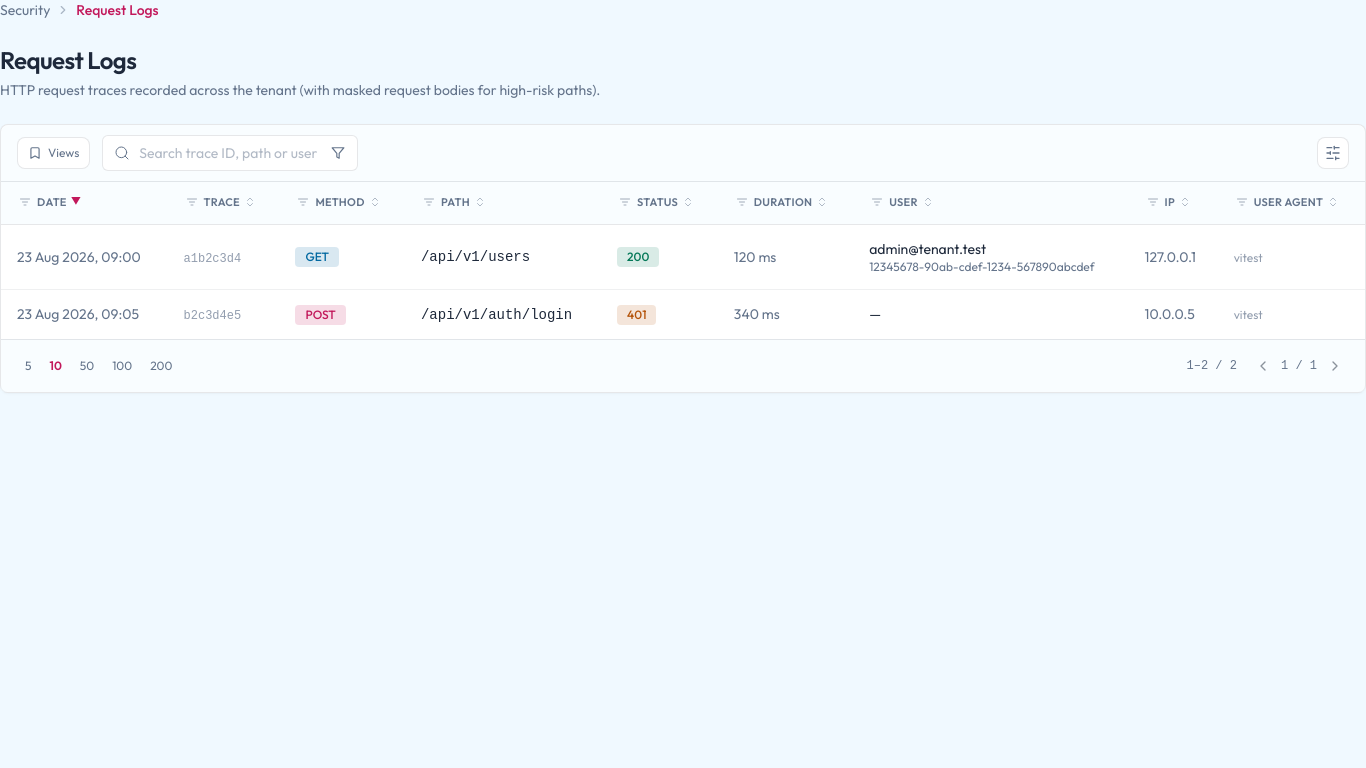
it: RequestLogsPage › opening a row shows the detail drawer with the full trace id and body (K-55 F3)
Expected: the text "/api/v1/users" is shown, [421,249,530,265]
What coordinates should you click on to do the following:
click the text "admin@tenant.test"
I would click on:
 (928, 249)
Its box is [869,240,986,258].
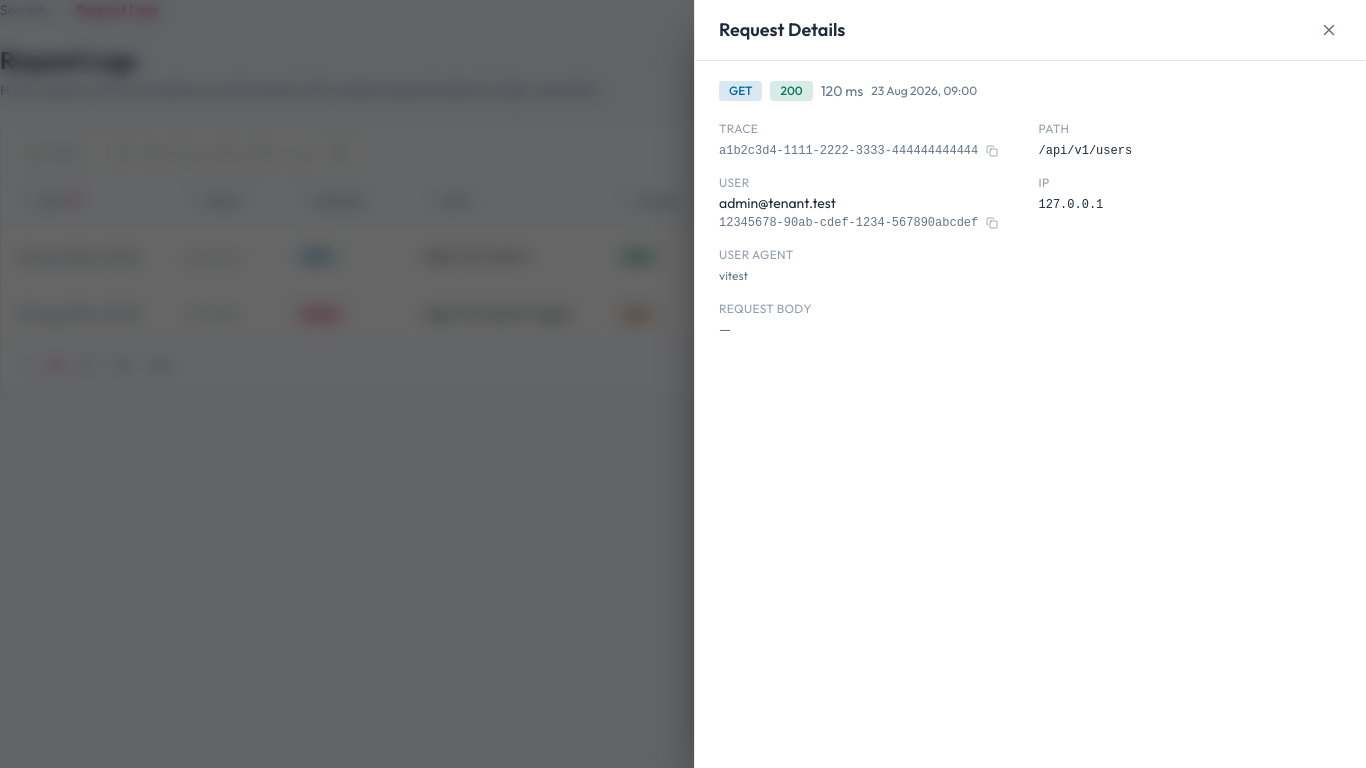
Expected: the dialog "Request Details" is shown, [694,0,1365,767]
Expected: the text "a1b2c3d4-1111-2222-3333-444444444444" is shown, [719,143,978,159]
Expected: the text "12345678-90ab-cdef-1234-567890abcdef" is shown, [719,215,978,231]
